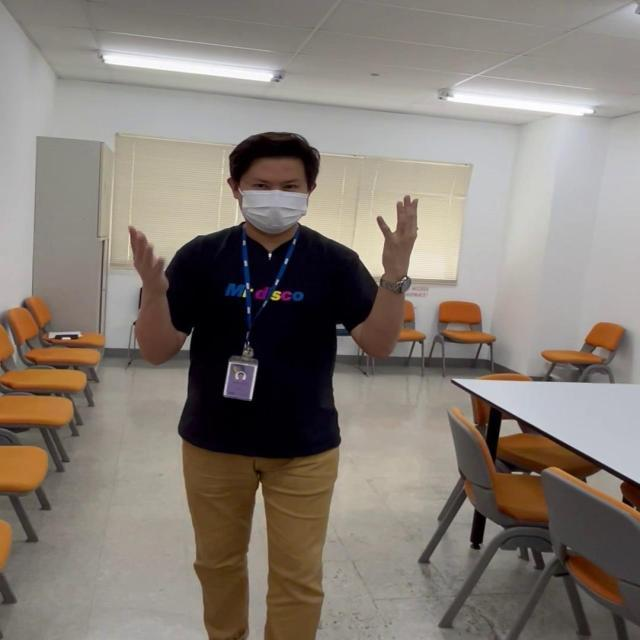bare_hand: (374, 190, 421, 277), (126, 220, 166, 292)
